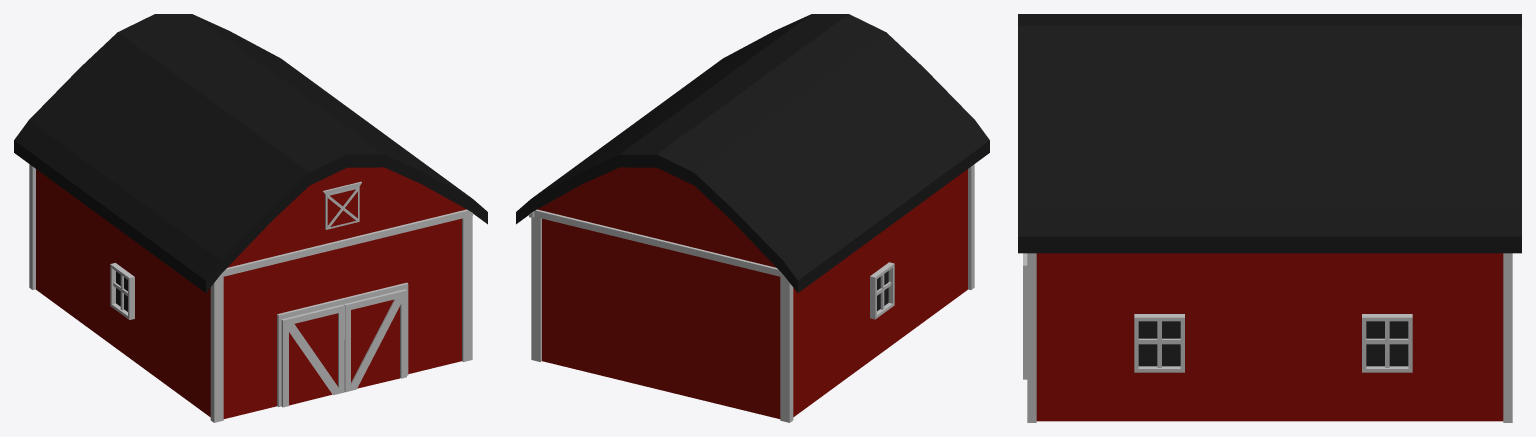
Rendered from Barn_Main.fbx.
The picture shows the model from 3 angles, left to right: view 1: azimuth 30°, elevation 25°; view 2: azimuth 150°, elevation 25°; view 3: azimuth 270°, elevation 25°; orthographic projection. The views are drawn at different scales.
Parts seen in each view (by area): view 1: Cube; view 2: Cube; view 3: Cube.
Part boxes in pixels (bbox=[...]): Cube: bbox=[14, 14, 487, 422]; Cube: bbox=[516, 14, 989, 422]; Cube: bbox=[1018, 14, 1521, 422].
Size of the model in its own units: 1889 by 1534 by 2227.
